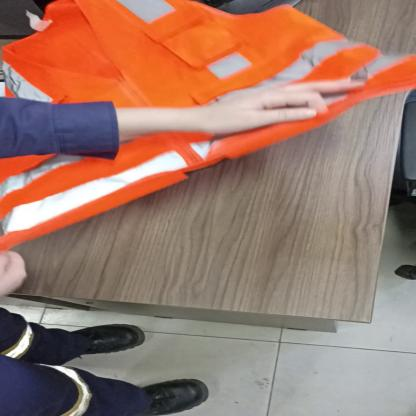colete: (0, 0, 413, 249)
